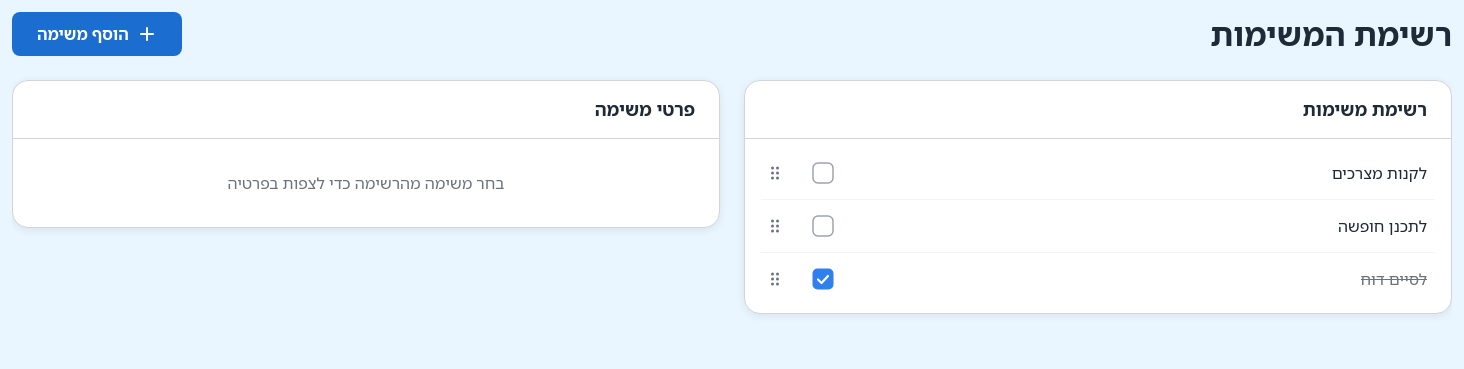
it: HomePage – status › removes a task deleted by another visitor and says so above the list
This screenshot has width=1464, height=369.
Click the checkbox named "לתכנן חופשה" at (823, 226), box [801, 204, 845, 248]
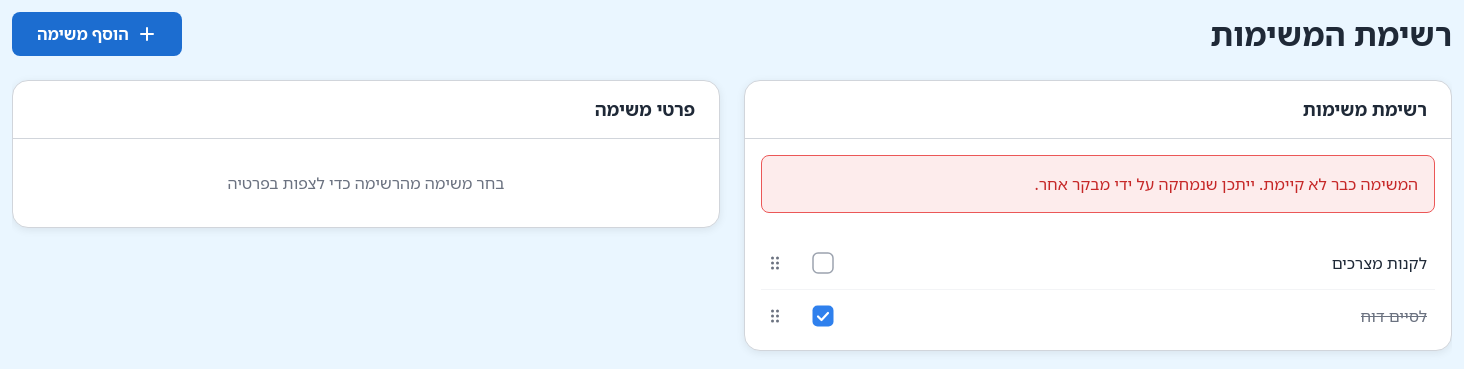
Now the text "המשימה כבר לא קיימת. ייתכן שנמחקה על ידי מבקר אחר." is shown, box [1034, 172, 1418, 196]
